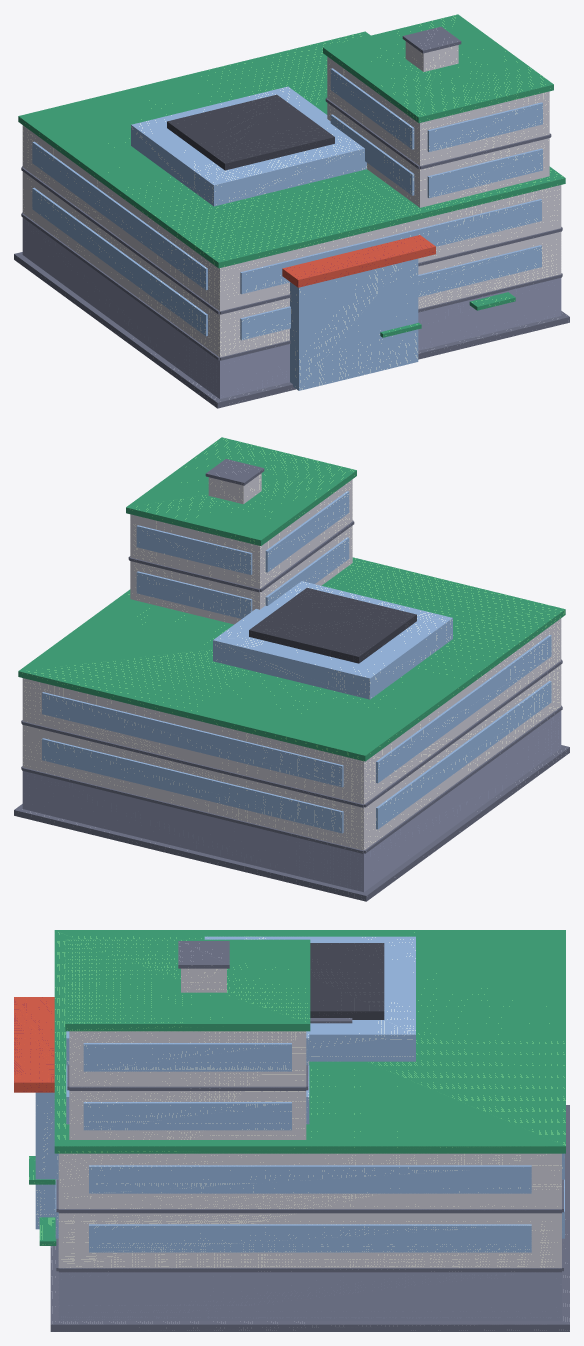
The model's file is mall-2x2-l2.glb.
The picture shows the model from 3 angles, top to bottom: view 1: azimuth 30°, elevation 25°; view 2: azimuth 150°, elevation 25°; view 3: azimuth 270°, elevation 25°; orthographic projection. The views are drawn at different scales.
Visible parts, largest first — view 1: mall-2x2-l2; view 2: mall-2x2-l2; view 3: mall-2x2-l2.
Part boxes in pixels (x1=…): mall-2x2-l2: x1=14, y1=14, x2=569, y2=408; mall-2x2-l2: x1=14, y1=437, x2=569, y2=901; mall-2x2-l2: x1=14, y1=930, x2=569, y2=1331.
Size of the model in its own units: 3.84 by 2.69 by 4.11.
1 material, 1 textured.
